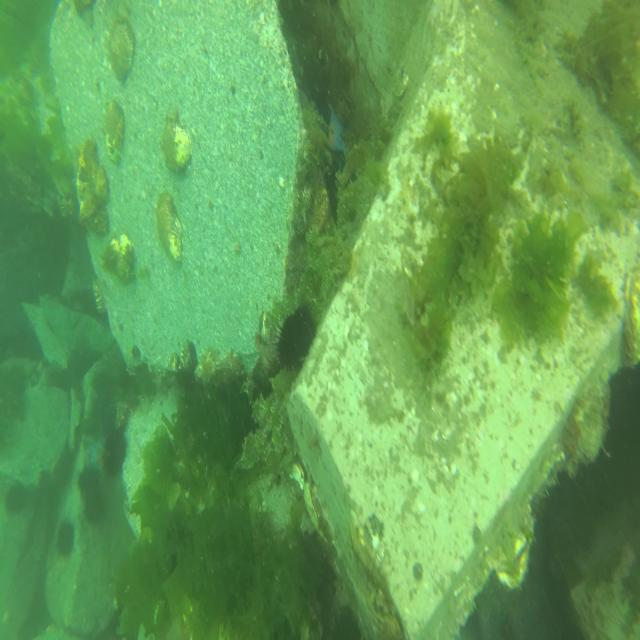echinus: (272, 300, 317, 374), (75, 467, 106, 522), (102, 426, 126, 479), (4, 478, 28, 520), (54, 520, 76, 558)
scallop: (108, 17, 137, 82)
starfish: (324, 103, 346, 162)
